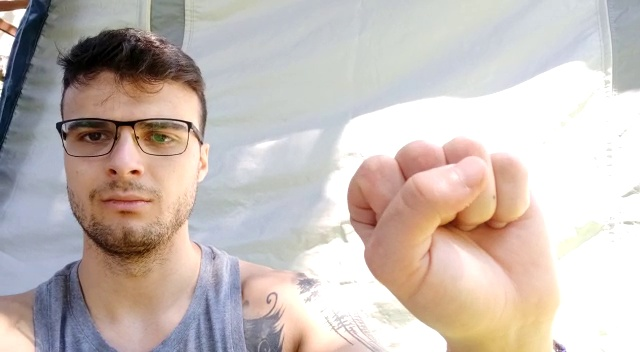Fist: (345, 132, 557, 325)
